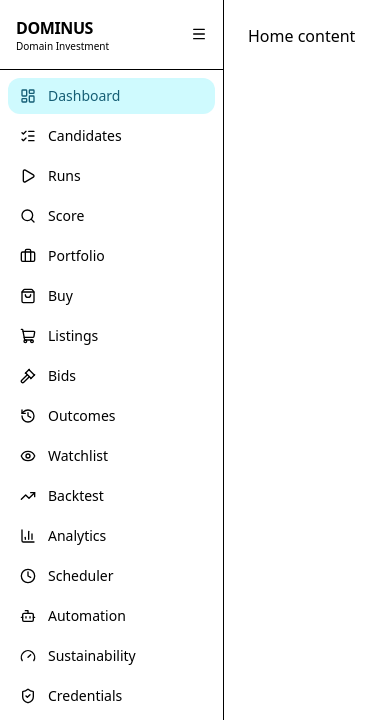
Test case: Layout › collapses the sidebar when the menu toggle is clicked
Click the button at (199, 34), box [191, 26, 207, 42]
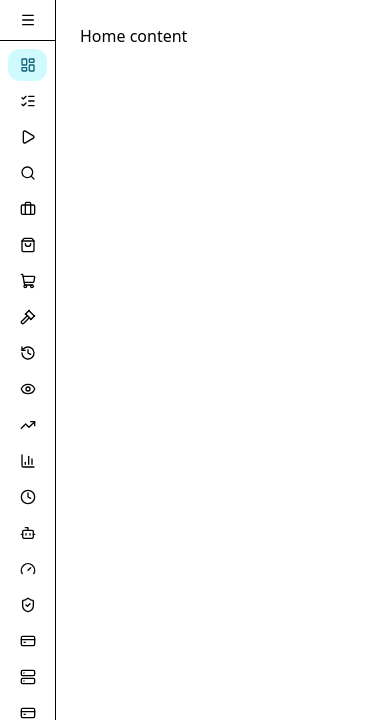
Result: the link "Dashboard" is gone
